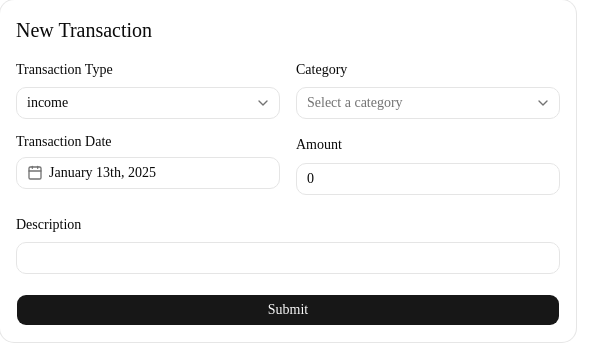
Test: TransactionForm › category selection › clears the chosen category when the transaction type changes
The width and height of the screenshot is (594, 360).
Click the dropdown labelled "category" at (355, 103), box x1=296 y1=87 x2=560 y2=119
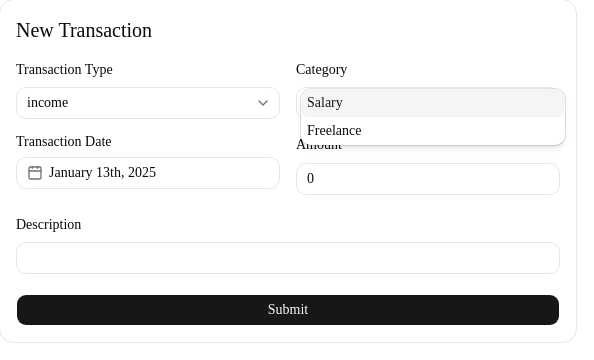
Click the option "Salary" at (325, 103), box x1=301 y1=89 x2=565 y2=117
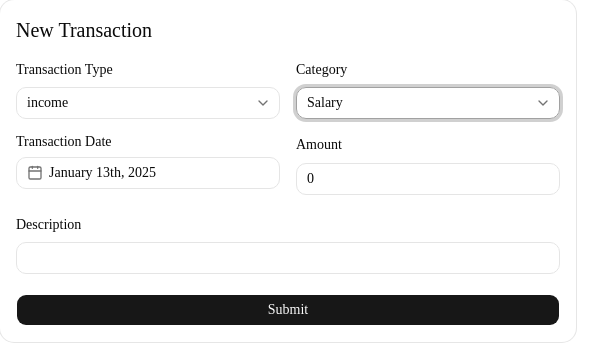
Now the dropdown named "Category" shows "Salary", box x1=296 y1=87 x2=560 y2=119
Click the dropdown named "Transaction Type" at (48, 103), box x1=16 y1=87 x2=280 y2=119
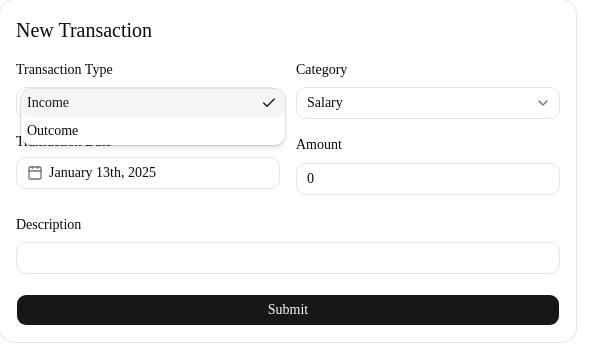
Click the option "Outcome" at (53, 131), box x1=27 y1=123 x2=78 y2=138
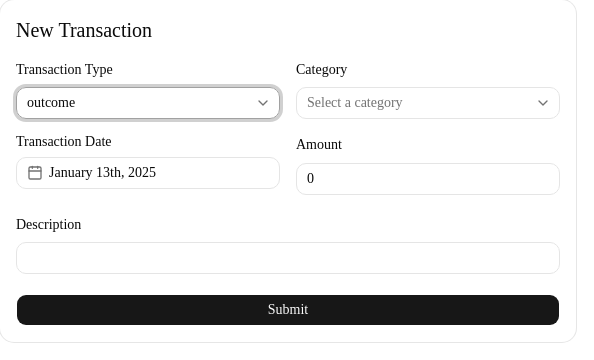
Now the dropdown labelled "category" shows "Select a category", box x1=296 y1=87 x2=560 y2=119
